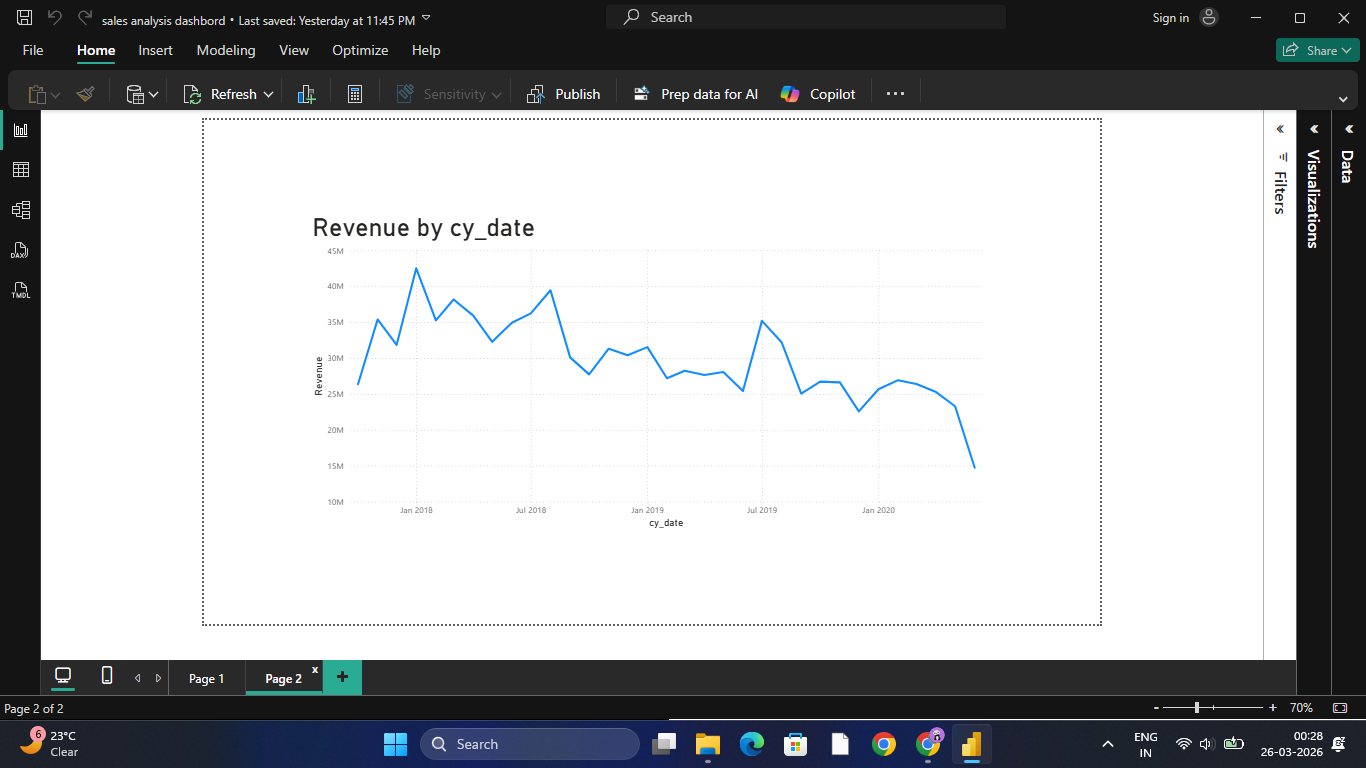

Layout of this report page (visuals, bound fields, positions):
{"tool":"powerbi","page":{"name":"Page 2","canvas":[1280,720],"ordinal":1},"visuals":[{"type":"lineChart","fields":{"Y":["base measures.Revenue"],"Category":["sales date.cy_date"]},"box":[150,131.7,980,456.7],"z":0}]}

Visuals, with their boxes on the page's 1280x720 design canvas (x1, y1, x2, y2). These are canvas units, not pixel positions in the 1366x768 screenshot, which may show the page scaled, cropped or inside an application window:
lineChart - base measures.Revenue x sales date.cy_date: <region>150, 132, 1130, 588</region>
